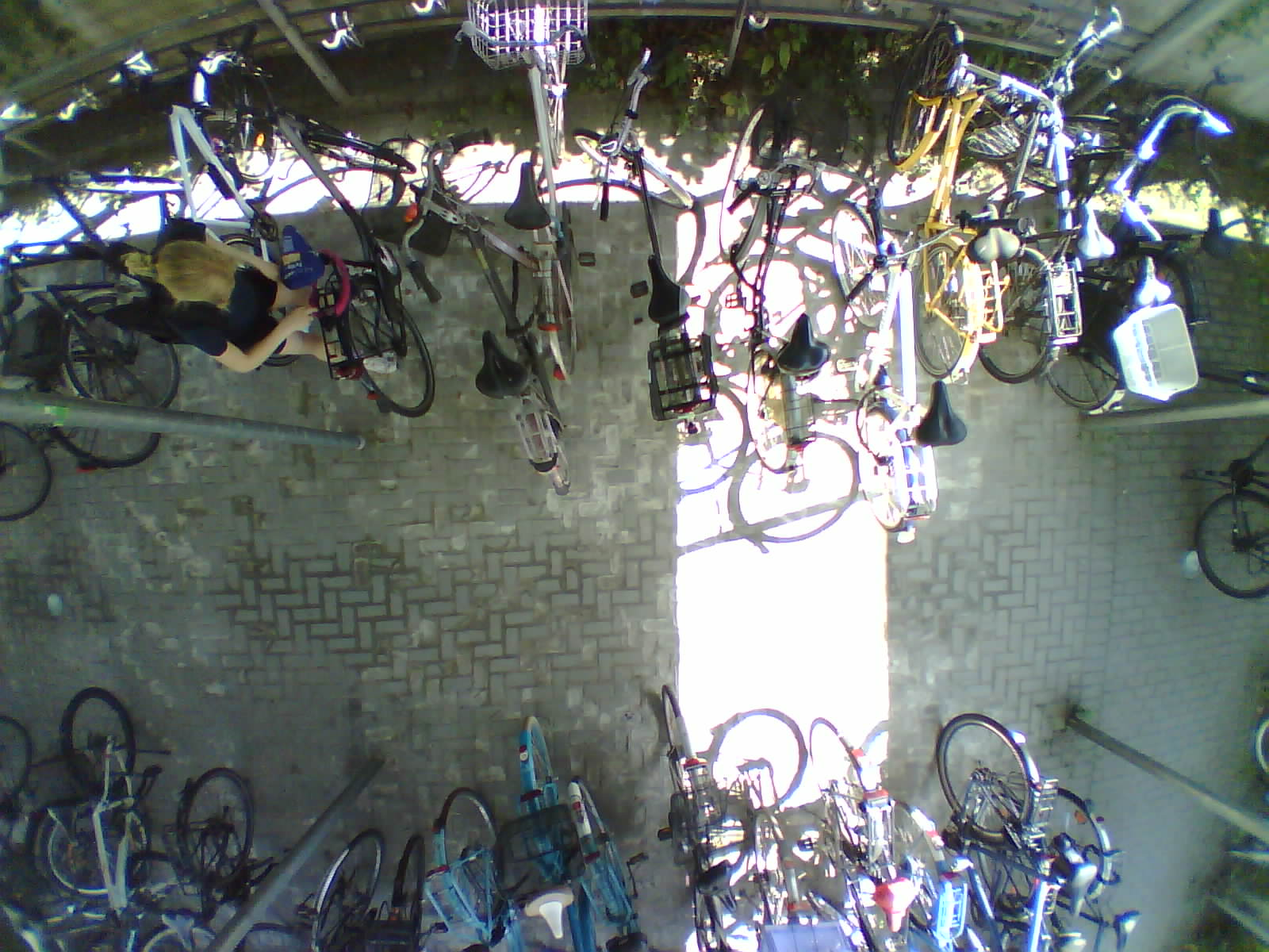bicylce: (391, 170, 567, 493), (579, 50, 721, 436), (276, 92, 433, 441), (880, 9, 998, 387), (480, 8, 599, 379), (1046, 103, 1174, 416), (831, 192, 938, 541), (39, 150, 180, 414), (931, 713, 1077, 952), (725, 136, 827, 478), (978, 78, 1074, 382), (656, 683, 758, 952), (805, 715, 916, 952), (63, 686, 139, 952), (1193, 354, 1269, 601), (512, 712, 580, 952)
saddle: (494, 155, 565, 243), (469, 324, 539, 412), (636, 245, 706, 329), (765, 297, 834, 380), (270, 216, 331, 292), (961, 201, 1024, 273), (911, 379, 973, 450), (1070, 197, 1115, 272), (1129, 246, 1176, 312), (519, 886, 575, 939), (1052, 856, 1096, 923), (869, 871, 914, 934), (694, 858, 737, 914), (164, 903, 201, 952), (1109, 908, 1144, 952), (0, 264, 26, 319), (51, 800, 76, 846)
